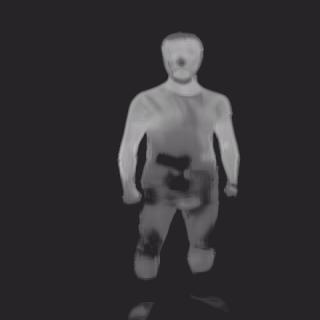Gun: (155, 151, 193, 193)
